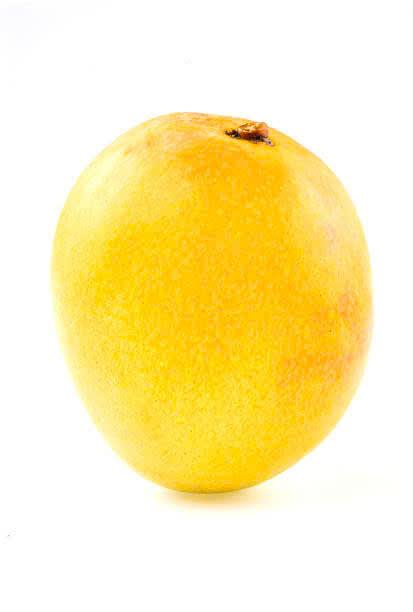mango: (56, 87, 378, 525)
